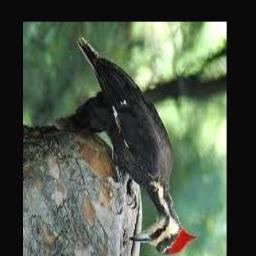Woodpecker: (76, 39, 197, 255)
